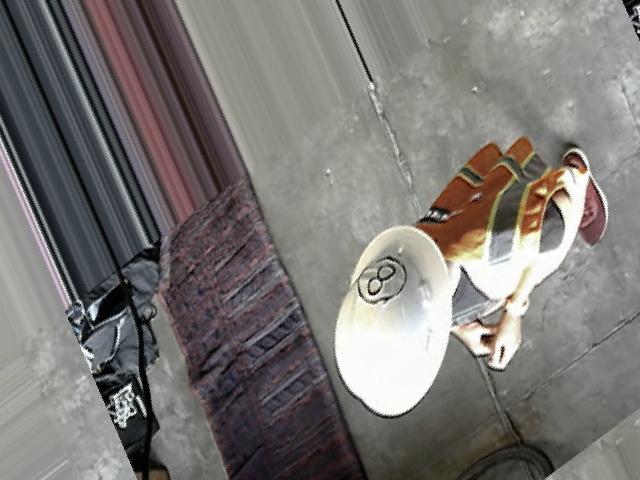eight: (350, 242, 411, 320)
